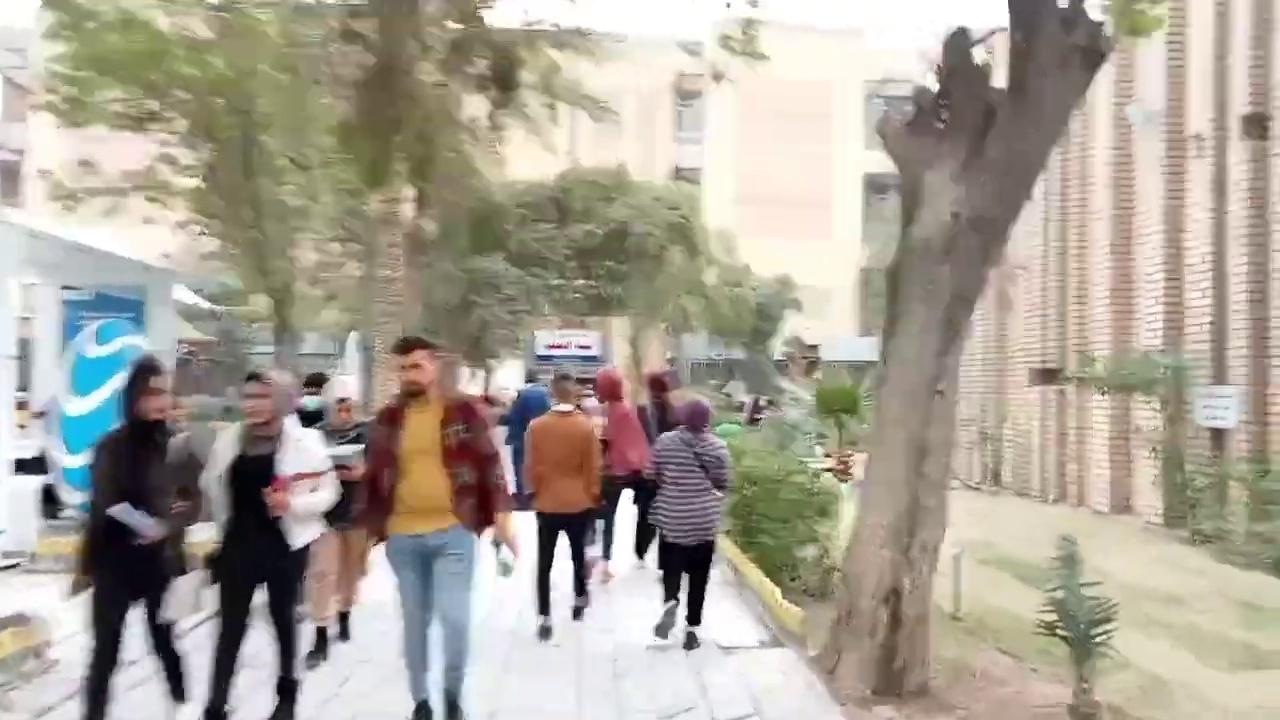person: (359, 335, 514, 719), (198, 367, 343, 719), (75, 354, 200, 719), (522, 365, 604, 641), (646, 398, 730, 650), (303, 375, 371, 670), (584, 365, 656, 583)
tree: (32, 0, 780, 411), (817, 0, 1166, 698), (321, 0, 622, 398), (33, 0, 350, 376), (499, 159, 763, 399), (721, 408, 845, 602), (1056, 344, 1191, 519), (1032, 531, 1121, 717), (708, 267, 804, 404), (813, 362, 863, 454)
